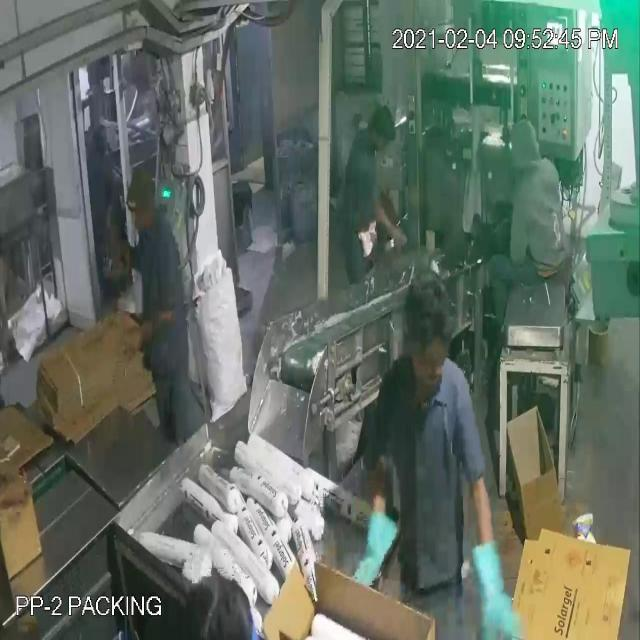No_Gloves: (22, 71, 496, 585)
